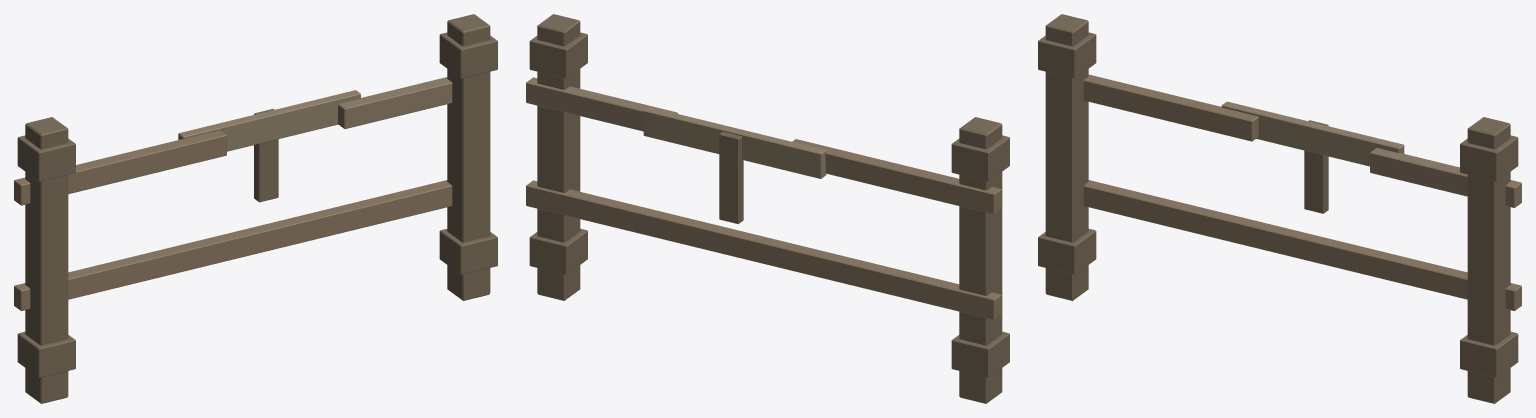
Rendered from env_fence_rail_repaired_c_v05_post_collars.glb.
The picture shows the model from 3 angles, left to right: view 1: azimuth 30°, elevation 25°; view 2: azimuth 150°, elevation 25°; view 3: azimuth 330°, elevation 25°; orthographic projection.
Parts seen in each view (by area): view 1: material_2, material_0, material_3, material_1; view 2: material_2, material_0, material_3, material_1; view 3: material_2, material_0, material_3, material_1.
Boxes of the visible parts, left/top/right/bottom form: material_2: left=17, top=14, right=497, bottom=403; material_0: left=14, top=130, right=452, bottom=310; material_3: left=178, top=90, right=360, bottom=151; material_1: left=338, top=77, right=452, bottom=128; material_2: left=529, top=14, right=1009, bottom=403; material_0: left=526, top=139, right=1001, bottom=319; material_3: left=643, top=107, right=826, bottom=178; material_1: left=526, top=77, right=677, bottom=131; material_2: left=1038, top=14, right=1518, bottom=403; material_0: left=1083, top=74, right=1521, bottom=310; material_3: left=1221, top=101, right=1404, bottom=166; material_1: left=1370, top=148, right=1521, bottom=207.
Size of the model in its own units: 2 by 1.1 by 0.21.
